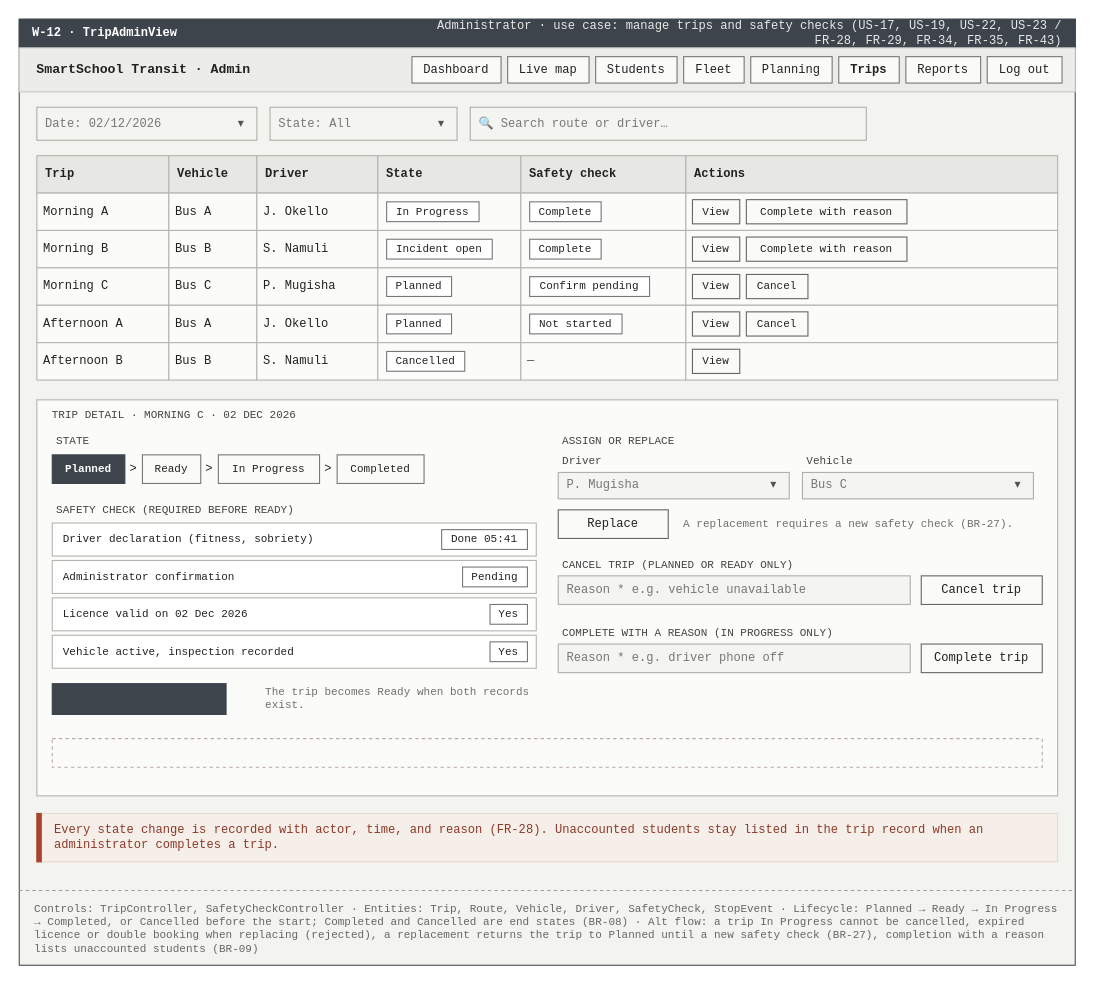
Image size: 1096x985. Some labels were removed from this diagram. Here are the shapes that lost their labels. From the top down, the box of each, then its label:
(51, 683, 226, 714): Confirm safety check
(51, 738, 1042, 767): ⚠ A trip In Progress cannot be cancelled (error slot)
